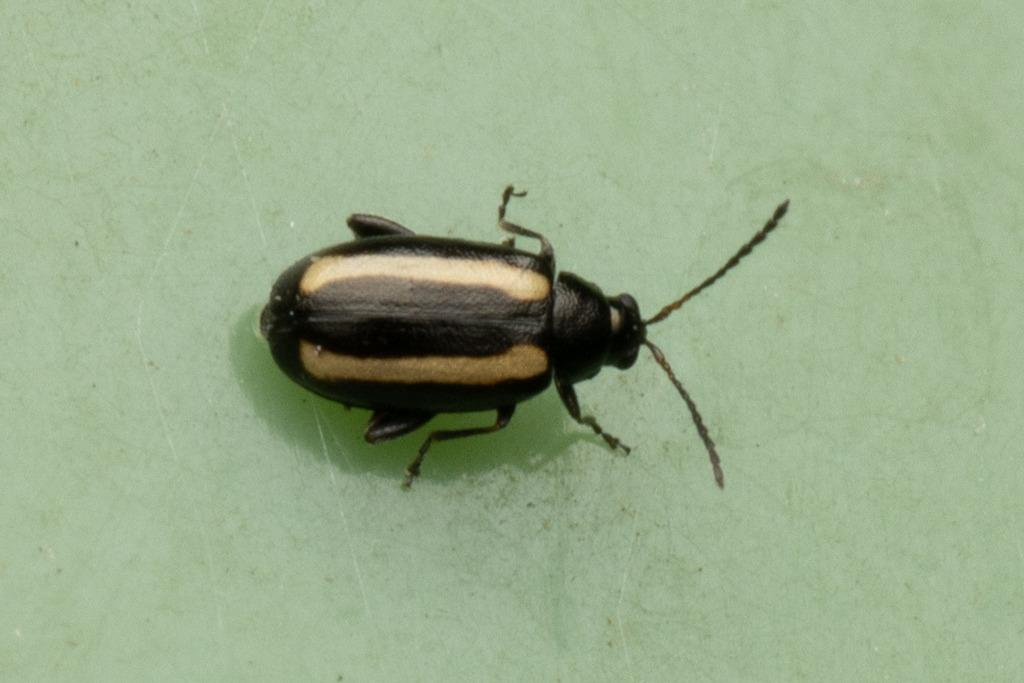flea_beetle: (209, 129, 851, 581)
